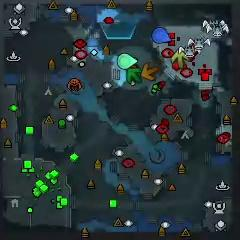p1: (152, 27, 171, 44)
p2: (117, 53, 138, 69)
x2: (172, 50, 188, 69)
x4: (126, 67, 141, 85)
x5: (141, 63, 159, 81)
